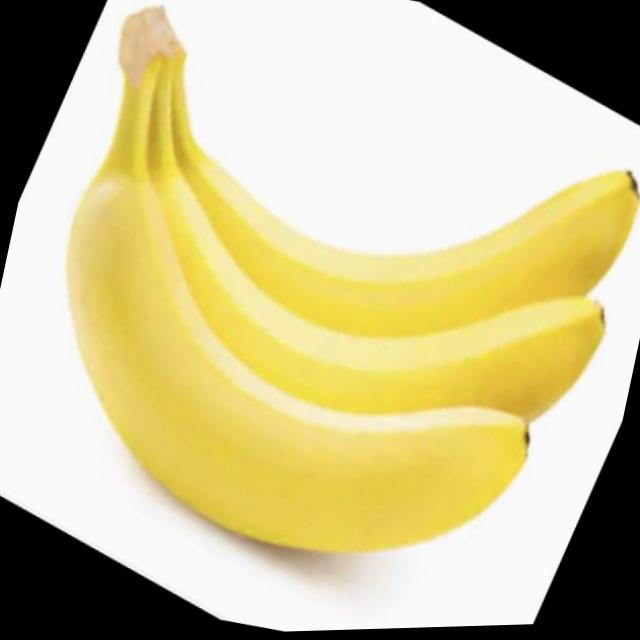Banana: (12, 0, 640, 615)
